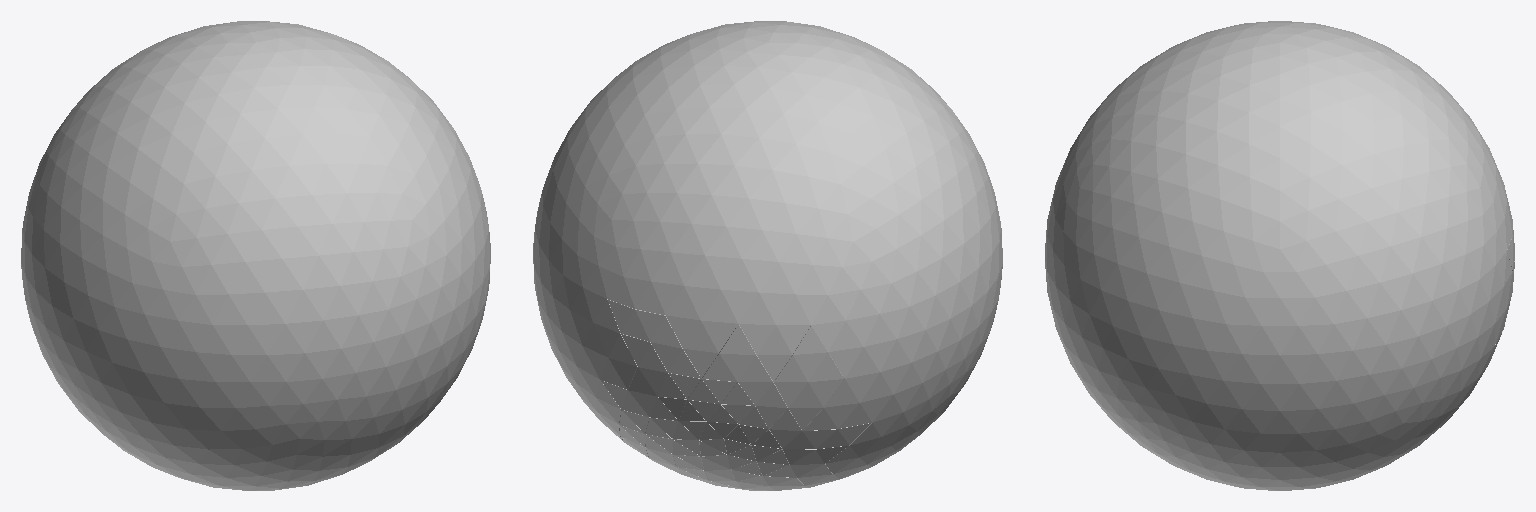
Rendered from NewGlassDome.obj.
3 renders of one model, left to right at view 1: azimuth 30°, elevation 25°; view 2: azimuth 150°, elevation 25°; view 3: azimuth 270°, elevation 25°, orthographic.
Visible parts, largest first — view 1: MainGlass_Icosphere.003; view 2: MainGlass_Icosphere.003, Icosphere.036_Icosphere.039, Icosphere.037_Icosphere.040, Icosphere.040_Icosphere.043, Icosphere.038_Icosphere.041, Icosphere.003_Icosphere.006, Icosphere.002_Icosphere.005, Icosphere.010_Icosphere.013; view 3: MainGlass_Icosphere.003.
Boxes of the visible parts, box(x1,y1,x2,y2) form: MainGlass_Icosphere.003: box(21, 21, 490, 490); MainGlass_Icosphere.003: box(533, 21, 1002, 490); Icosphere.036_Icosphere.039: box(774, 326, 843, 430); Icosphere.037_Icosphere.040: box(702, 324, 787, 428); Icosphere.040_Icosphere.043: box(601, 342, 685, 420); Icosphere.038_Icosphere.041: box(608, 300, 700, 378); Icosphere.003_Icosphere.006: box(769, 409, 870, 448); Icosphere.002_Icosphere.005: box(764, 446, 847, 485); Icosphere.010_Icosphere.013: box(701, 455, 755, 480); MainGlass_Icosphere.003: box(1045, 21, 1512, 490).
Size of the model in its own units: 2.03 by 2.03 by 2.03.